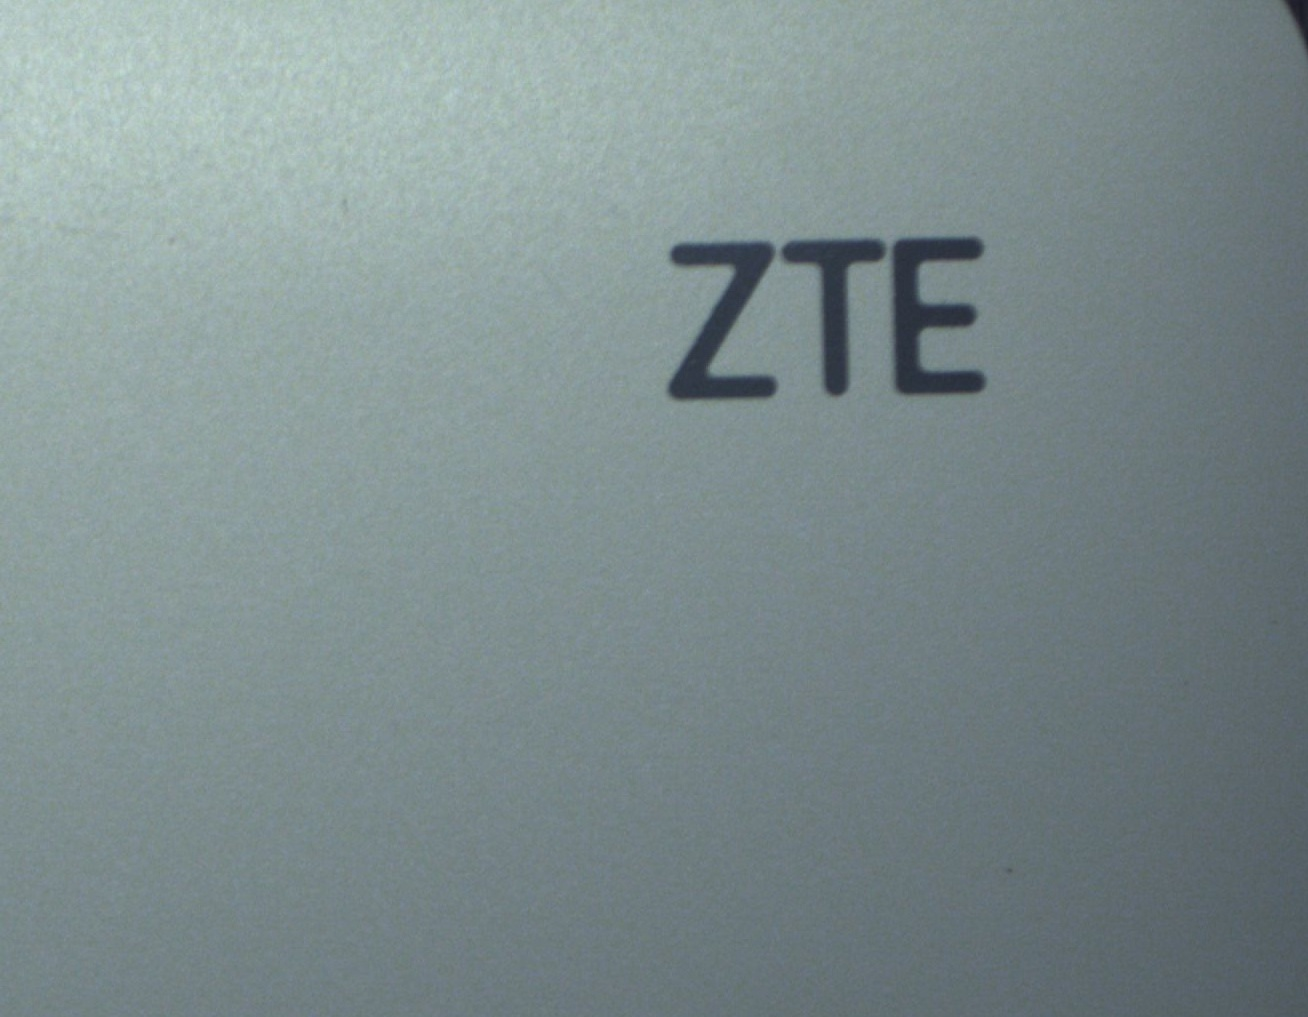AN_ZTE: (612, 209, 1044, 436)
